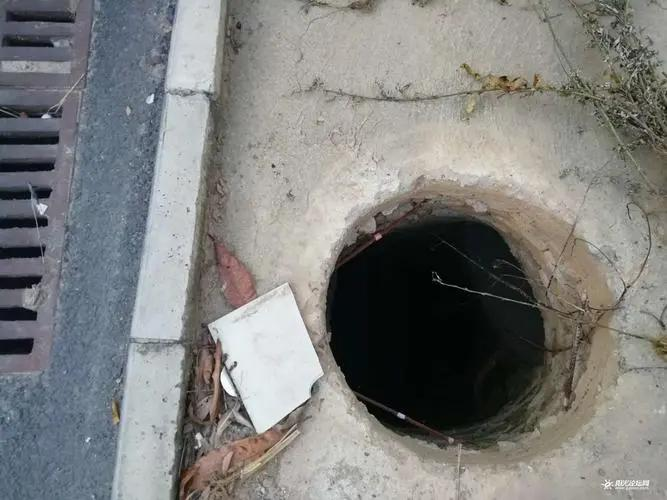wellcover: (307, 172, 629, 473)
